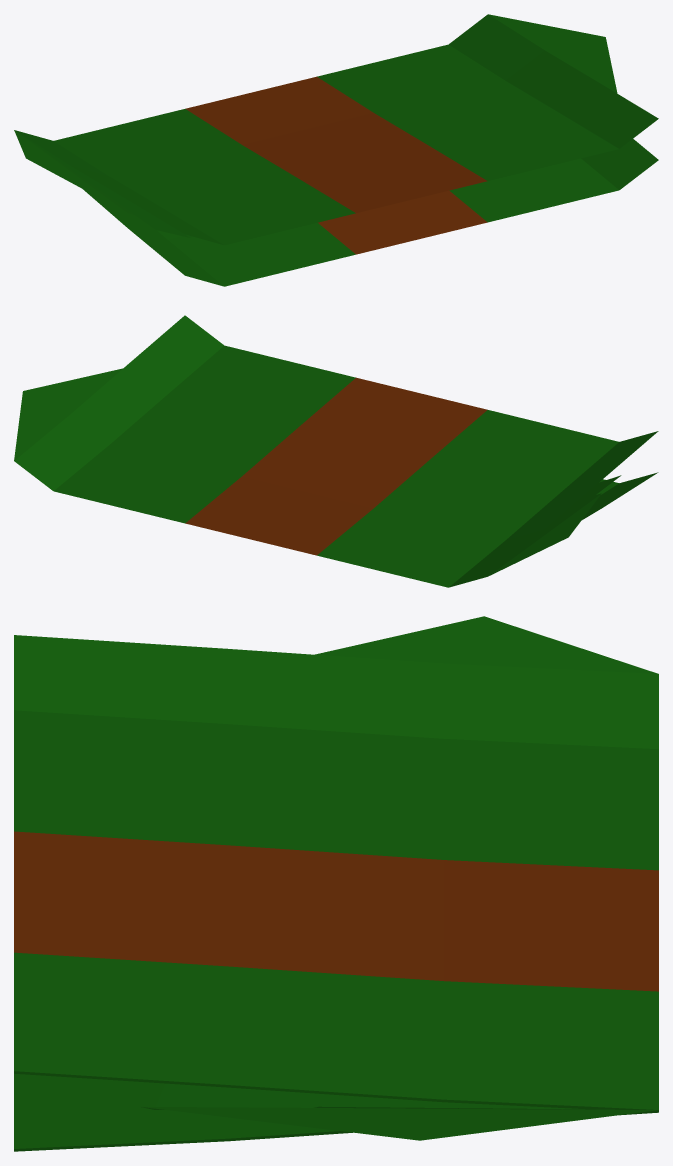
File: simpleplanefbx.fbx
3 views of the same model, one above another, from view 1: azimuth 30°, elevation 25°; view 2: azimuth 150°, elevation 25°; view 3: azimuth 270°, elevation 25° (orthographic). The views are drawn at different scales.
Parts seen in each view (by area): view 1: y0.001, y0.002, y-10, y0, y10; view 2: y0.001, y-10, y0, y0.002, y10; view 3: y0.001, y0.002, y-10, y0, y10.
Boxes of the visible parts, x1,y1,x2,y2 form: y0.001: (14,14,658,245); y0.002: (83,139,658,286); y-10: (16,14,617,202); y0: (14,130,133,214); y10: (27,139,193,237); y0.001: (14,315,658,587); y-10: (14,368,573,572); y0: (489,493,601,575); y0.002: (582,472,658,519); y10: (496,475,621,570); y0.001: (14,635,658,1109); y0.002: (14,1073,658,1151); y-10: (140,1083,658,1140); y0: (229,616,658,1109); y10: (297,1093,629,1109).
Bounding box in the file's own units: 855013 × 90000 × 450000.
